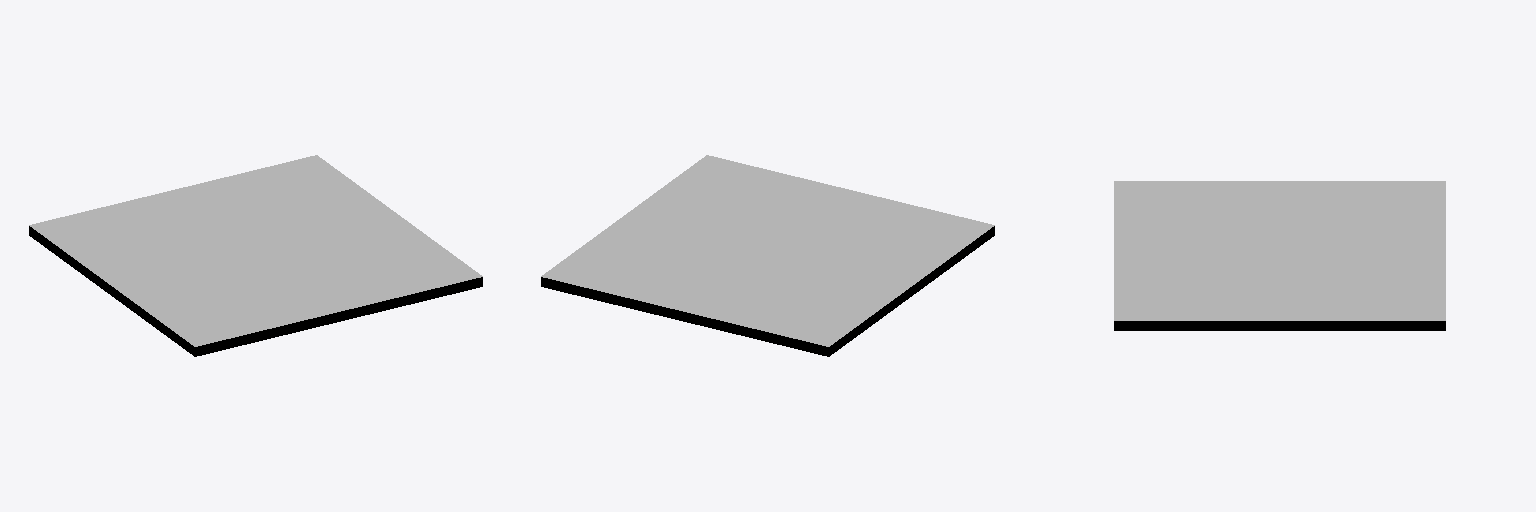
The model's file is roadTile.obj.
3 renders of one model, left to right at view 1: azimuth 30°, elevation 25°; view 2: azimuth 150°, elevation 25°; view 3: azimuth 270°, elevation 25°, orthographic.
Parts seen in each view (by area): view 1: roadTile_Cube.002; view 2: roadTile_Cube.002; view 3: roadTile_Cube.002.
Boxes of the visible parts, box(x1,y1,x2,y2) form: roadTile_Cube.002: box(29, 155, 482, 356); roadTile_Cube.002: box(541, 155, 994, 356); roadTile_Cube.002: box(1114, 181, 1445, 330).
Bounding box in the file's own units: 4 × 0.1314 × 4.